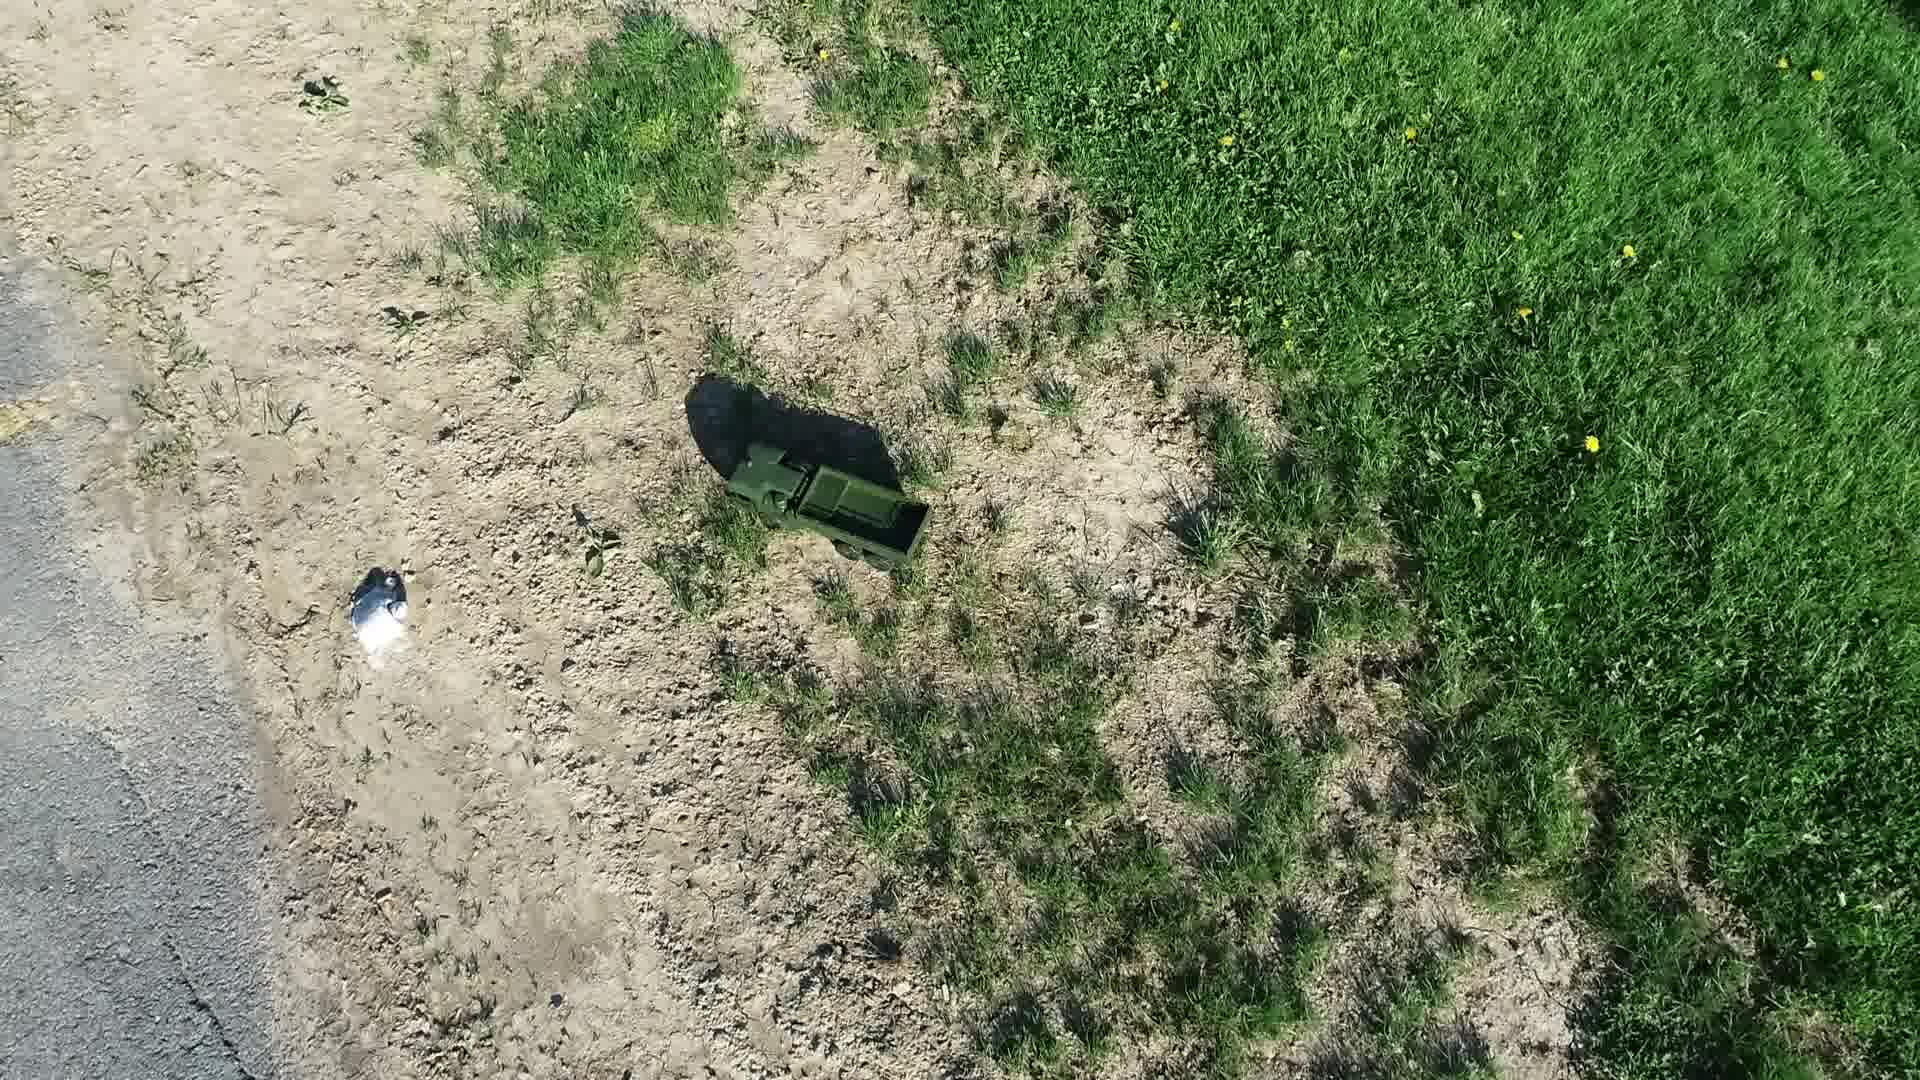transporter9: (717, 436, 948, 574)
